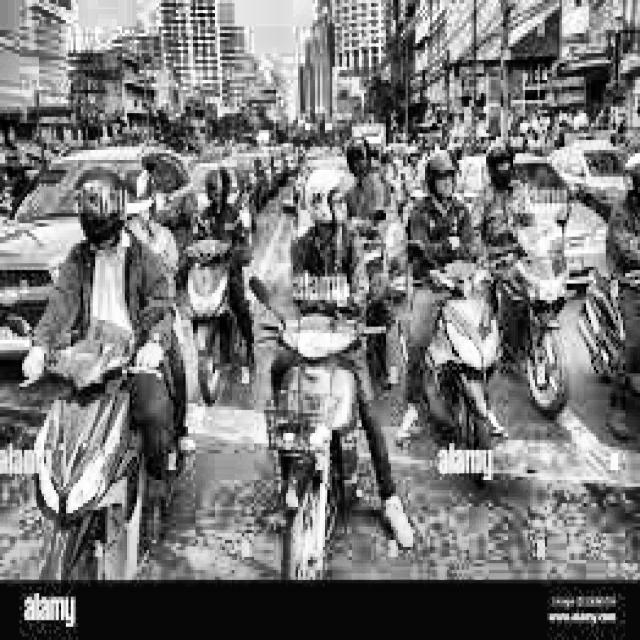Helmet: (296, 151, 354, 245), (69, 160, 129, 247), (122, 153, 160, 235), (424, 145, 461, 214), (485, 136, 514, 197)
